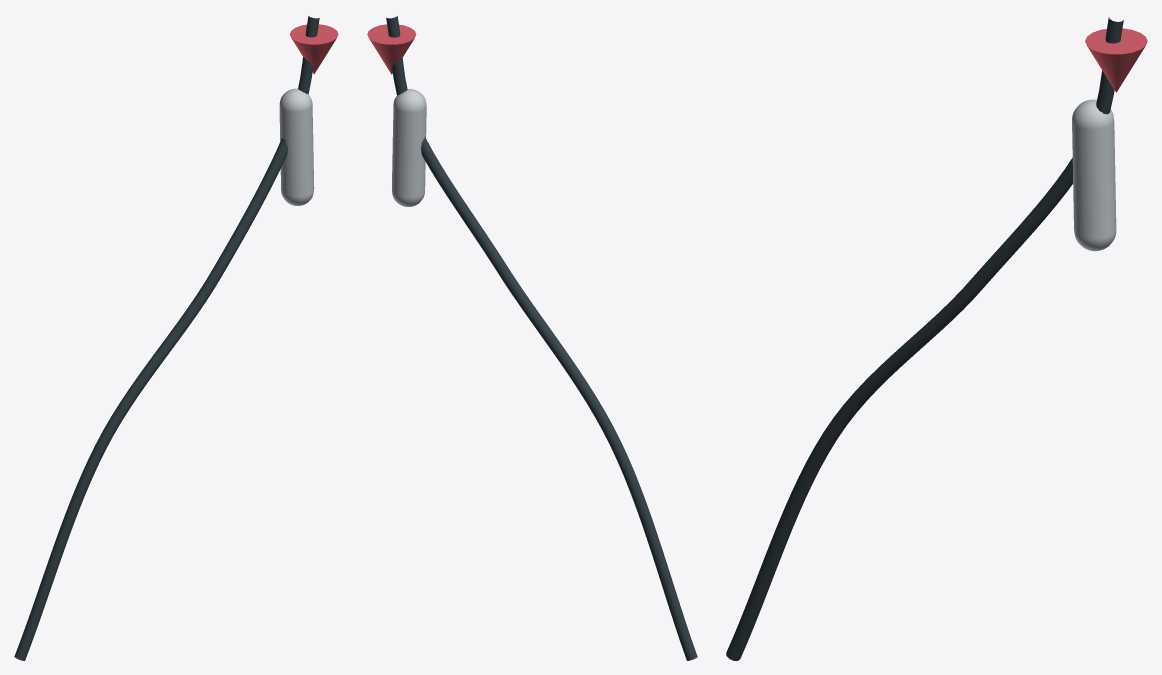
The model's file is impella-path.glb.
The picture shows the model from 3 angles, left to right: view 1: azimuth 30°, elevation 25°; view 2: azimuth 150°, elevation 25°; view 3: azimuth 330°, elevation 25°; orthographic projection. The views are drawn at different scales.
Visible parts, largest first — view 1: ImpellaCatheter, ImpellaMotor, ImpellaOutlet; view 2: ImpellaCatheter, ImpellaMotor, ImpellaOutlet; view 3: ImpellaCatheter, ImpellaMotor, ImpellaOutlet.
Boxes of the visible parts, bbox=[...] form: ImpellaCatheter: bbox=[14, 16, 319, 660]; ImpellaMotor: bbox=[279, 88, 314, 205]; ImpellaOutlet: bbox=[289, 24, 338, 74]; ImpellaCatheter: bbox=[386, 16, 697, 660]; ImpellaMotor: bbox=[392, 89, 426, 206]; ImpellaOutlet: bbox=[367, 24, 416, 74]; ImpellaCatheter: bbox=[726, 17, 1123, 660]; ImpellaMotor: bbox=[1072, 99, 1116, 251]; ImpellaOutlet: bbox=[1085, 28, 1147, 92].
Bounding box in the file's own units: 1.67 × 2.84 × 0.22.
